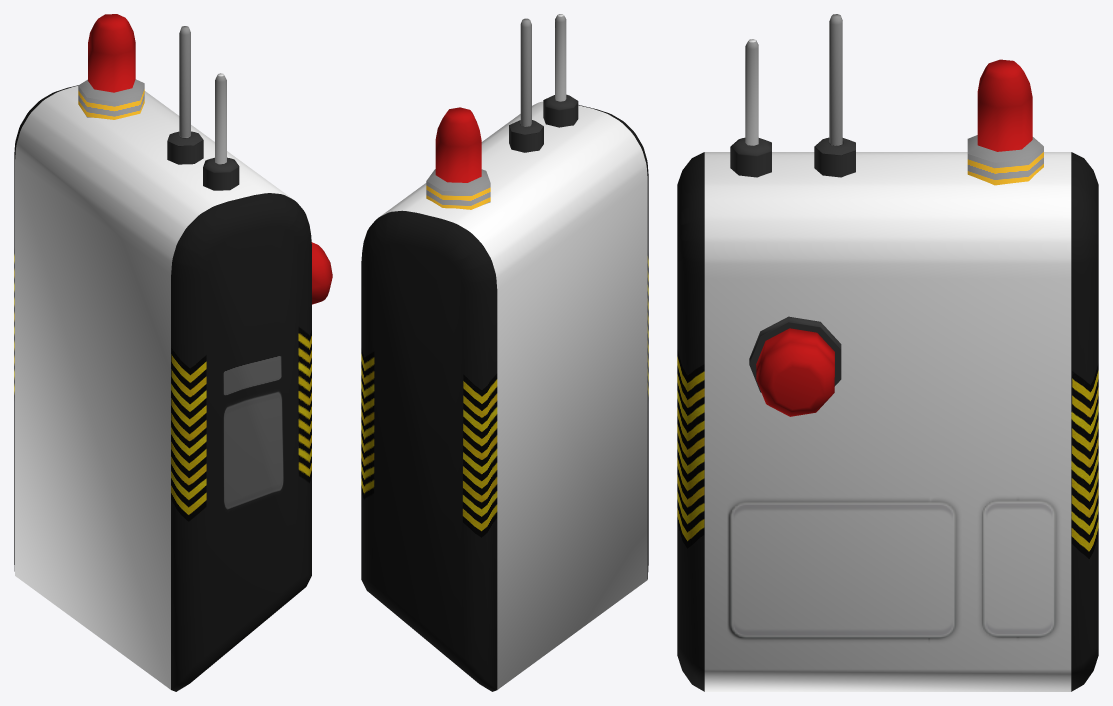
The model's file is Radio.fbx.
3 views of the same model, side by side, from view 1: azimuth 30°, elevation 25°; view 2: azimuth 150°, elevation 25°; view 3: azimuth 270°, elevation 25° (orthographic). The views are drawn at different scales.
Visible parts, largest first — view 1: Radio, Antena, AntenaMini1, AntenaMini2, Luz; view 2: Radio, Antena, AntenaMini1, AntenaMini2; view 3: Radio, Antena, Luz, AntenaMini1, AntenaMini2.
Part boxes in pixels (<box>): Radio: <box>14,85,311,691</box>; Antena: <box>78,14,144,119</box>; AntenaMini1: <box>167,26,203,164</box>; AntenaMini2: <box>203,73,239,190</box>; Luz: <box>311,242,332,304</box>; Radio: <box>361,101,648,691</box>; Antena: <box>426,107,490,209</box>; AntenaMini1: <box>509,18,543,152</box>; AntenaMini2: <box>543,14,578,127</box>; Radio: <box>677,152,1098,691</box>; Antena: <box>967,59,1043,185</box>; Luz: <box>749,316,841,416</box>; AntenaMini1: <box>814,14,855,177</box>; AntenaMini2: <box>730,39,771,177</box>.
Size of the model in its own units: 135 by 412 by 220.
